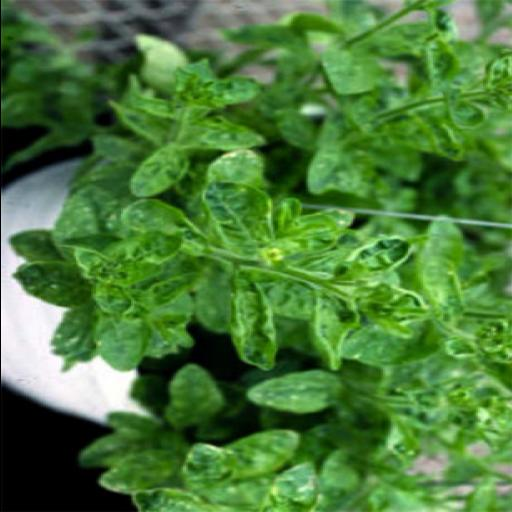Yellow Leaf Curl Virus: (200, 174, 284, 262), (225, 279, 275, 375), (122, 136, 194, 200), (306, 290, 362, 372), (344, 234, 414, 276), (180, 442, 230, 500), (92, 281, 128, 329)
